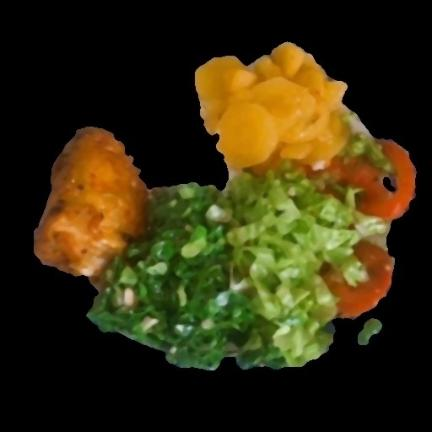cassava: (195, 44, 345, 167)
chicken: (35, 127, 147, 278)
salad: (88, 171, 385, 369)
tomato: (327, 141, 415, 221), (325, 241, 392, 317)
